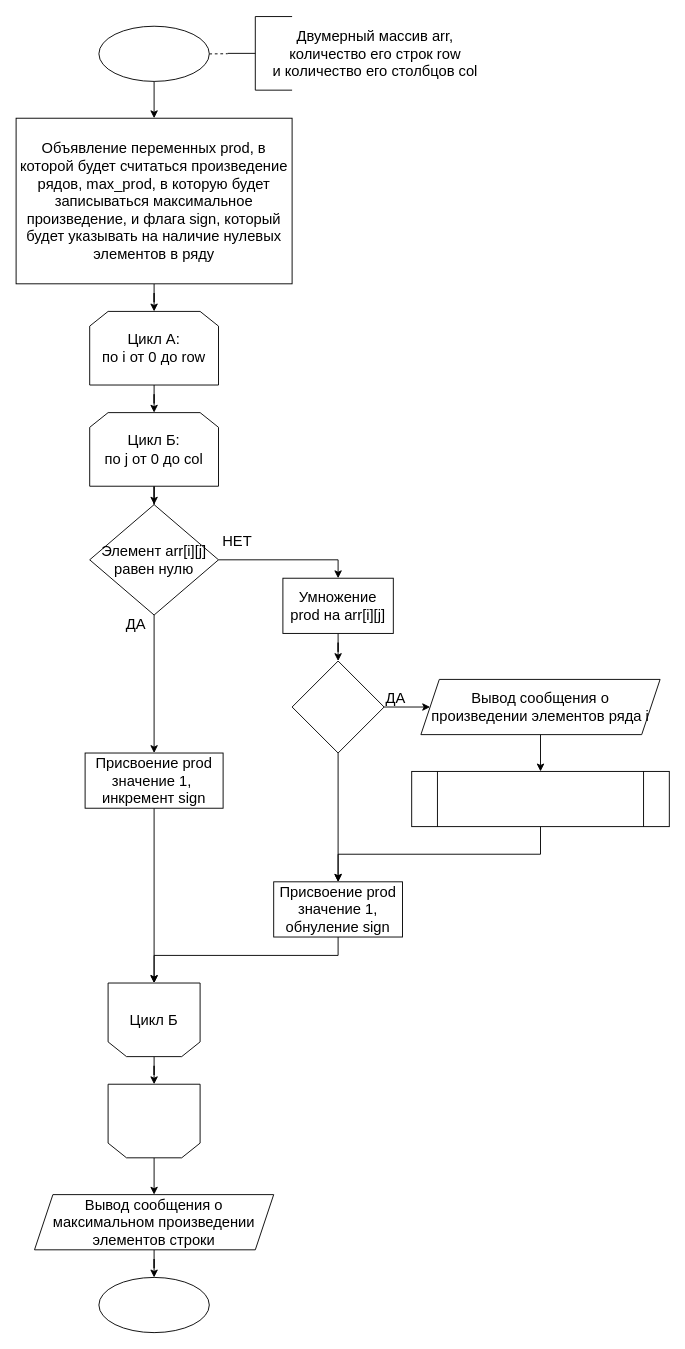
The diagram is 685 pixels wide and 1349 high, and some of its shapes have lost their labels. The shapes that lost their labels are listed below. From the top down, each one's centre as x and y in pixels, then its label:
At (153,53): "НАЧАЛО".
At (337,706): "sign равен нулю".
At (540,798): "Вызов функции maxim для переменных prod и max_prod".
At (153,1120): "Цикл А".
At (153,1304): "КОНЕЦ".
